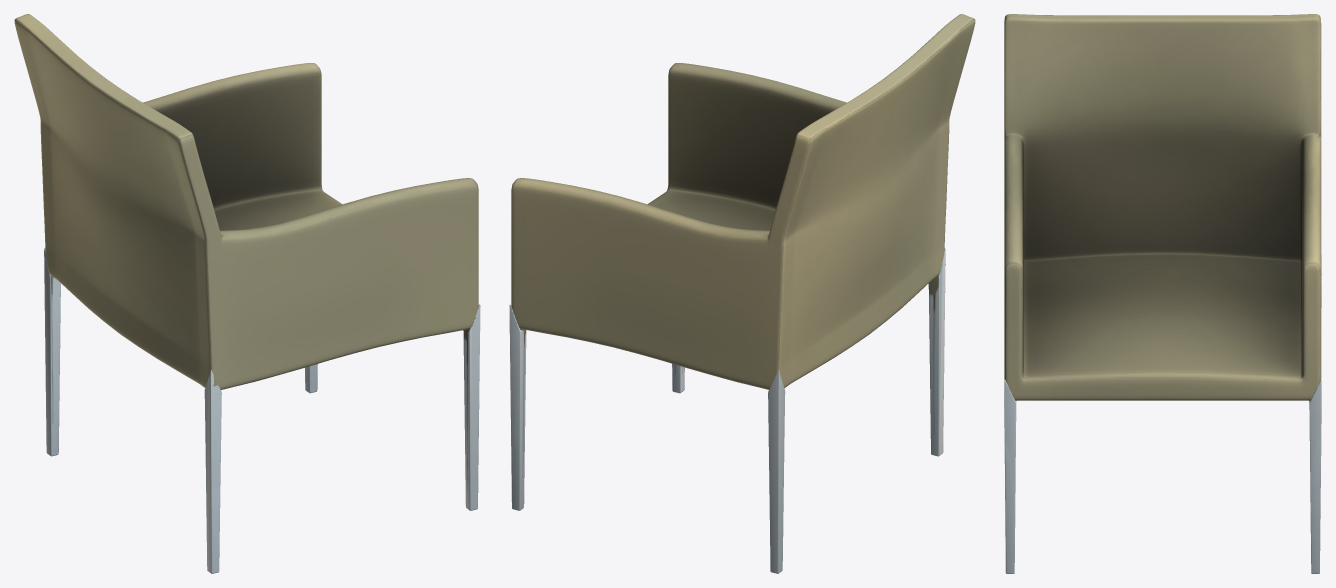
The model's file is vita_sand_colour_chrome_plated.glb.
The picture shows the model from 3 angles, left to right: view 1: azimuth 30°, elevation 25°; view 2: azimuth 150°, elevation 25°; view 3: azimuth 270°, elevation 25°; orthographic projection. The views are drawn at different scales.
Parts seen in each view (by area): view 1: vita-sand-colour; view 2: vita-sand-colour; view 3: vita-sand-colour.
Part boxes in pixels (<box>): vita-sand-colour: <box>14,14,480,573</box>; vita-sand-colour: <box>509,14,975,573</box>; vita-sand-colour: <box>1004,14,1321,573</box>.
Bounding box in the file's own units: 0.5828 × 0.811 × 0.5511.
Materials: 1 (1 with a texture image).
